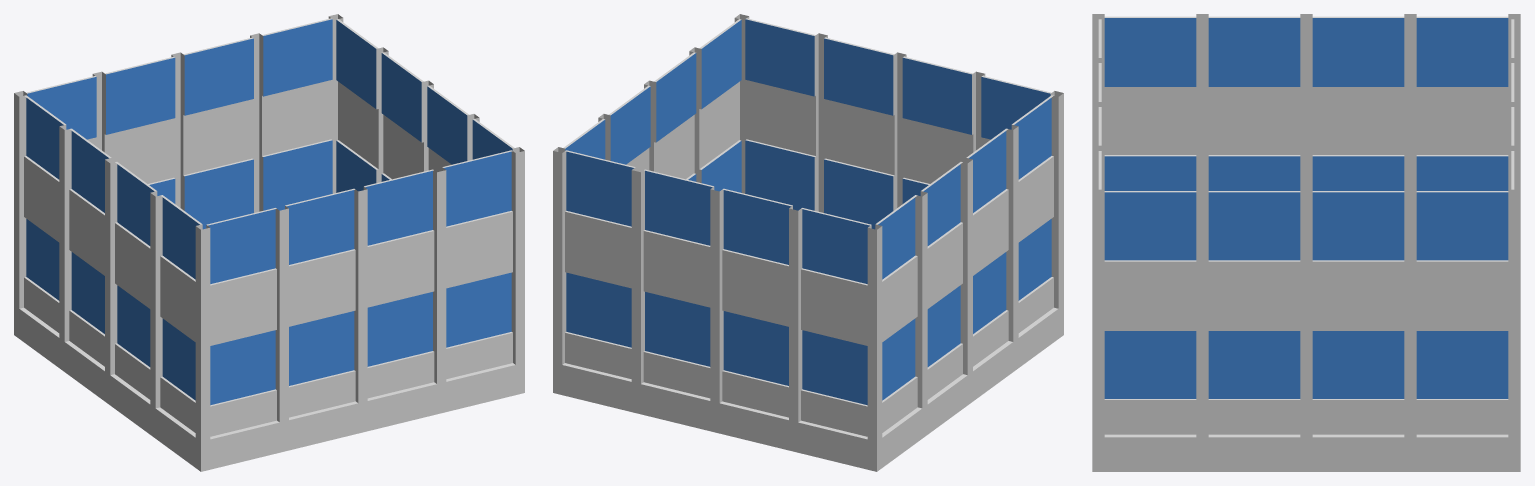
3 views of the same model, side by side, from view 1: azimuth 30°, elevation 25°; view 2: azimuth 150°, elevation 25°; view 3: azimuth 270°, elevation 25° (orthographic). The views are drawn at different scales.
Parts seen in each view (by area): view 1: 00a_Base; view 2: 00a_Base; view 3: 00a_Base.
Boxes of the visible parts, bbox=[...] form: 00a_Base: bbox=[14, 14, 524, 471]; 00a_Base: bbox=[553, 14, 1063, 471]; 00a_Base: bbox=[1092, 14, 1520, 471].
Bounding box in the file's own units: 35 × 25 × 35.
